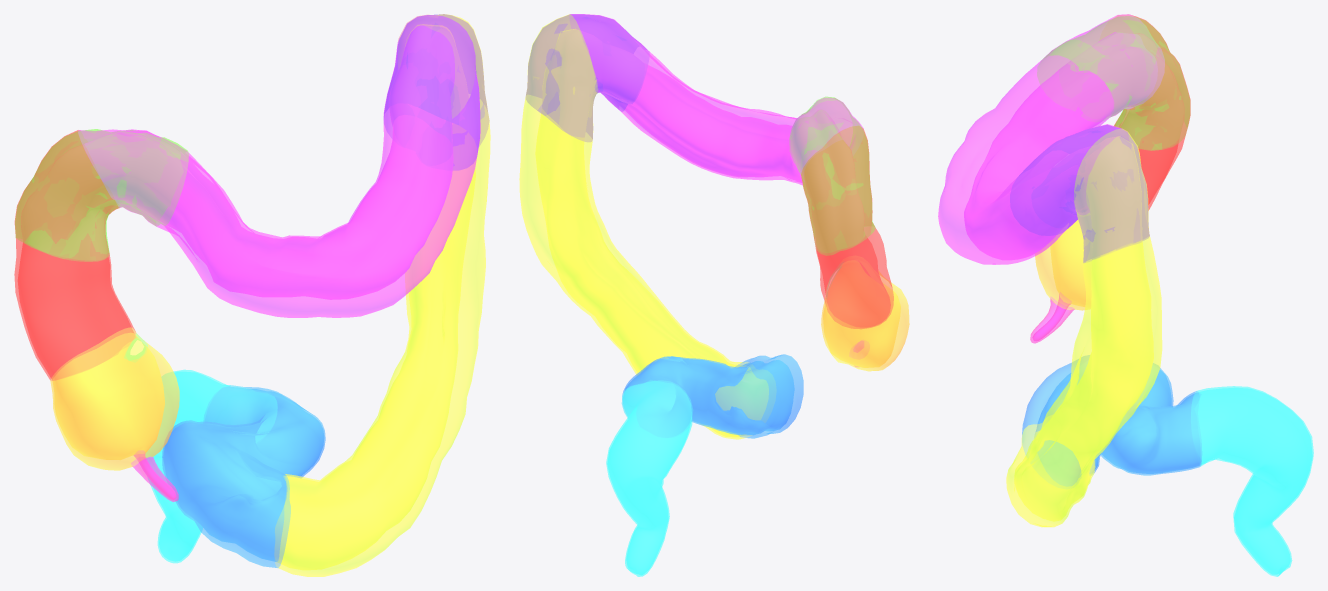
File: kolon-female.glb
3 renders of one model, left to right at view 1: azimuth 30°, elevation 25°; view 2: azimuth 150°, elevation 25°; view 3: azimuth 270°, elevation 25°, orthographic. The views are drawn at different scales.
Parts seen in each view (by area): view 1: 0:8:VH_F_transverse_colon, 0:2:VH_F_descending_colon, 0:0:VH_F_ascending_colon, 0:6:VH_F_sigmoid_colon, 0:3:VH_F_hepatic_flexure_of_colon, 0:1:VH_F_caecum, 0:7:VH_F_splenic_flexure_of_colon, 0:5:VH_F_rectum, 0:9:VH_F_vermiform_appendix; view 2: 0:2:VH_F_descending_colon, 0:8:VH_F_transverse_colon, 0:0:VH_F_ascending_colon, 0:6:VH_F_sigmoid_colon, 0:7:VH_F_splenic_flexure_of_colon, 0:5:VH_F_rectum, 0:3:VH_F_hepatic_flexure_of_colon, 0:1:VH_F_caecum; view 3: 0:8:VH_F_transverse_colon, 0:2:VH_F_descending_colon, 0:5:VH_F_rectum, 0:7:VH_F_splenic_flexure_of_colon, 0:3:VH_F_hepatic_flexure_of_colon, 0:6:VH_F_sigmoid_colon, 0:0:VH_F_ascending_colon, 0:1:VH_F_caecum, 0:9:VH_F_vermiform_appendix.
Boxes of the visible parts, x1,y1,x2,y2 form: 0:8:VH_F_transverse_colon: (78,15,480,317); 0:2:VH_F_descending_colon: (274,14,490,576); 0:0:VH_F_ascending_colon: (14,130,135,380); 0:6:VH_F_sigmoid_colon: (162,385,325,567); 0:3:VH_F_hepatic_flexure_of_colon: (15,129,188,261); 0:1:VH_F_caecum: (50,327,179,470); 0:7:VH_F_splenic_flexure_of_colon: (384,14,489,170); 0:5:VH_F_rectum: (145,369,277,563); 0:9:VH_F_vermiform_appendix: (131,450,178,501); 0:2:VH_F_descending_colon: (519,14,768,439); 0:8:VH_F_transverse_colon: (570,14,863,185); 0:0:VH_F_ascending_colon: (801,126,893,328); 0:6:VH_F_sigmoid_colon: (622,354,803,438); 0:7:VH_F_splenic_flexure_of_colon: (526,14,649,141); 0:5:VH_F_rectum: (606,380,692,576); 0:3:VH_F_hepatic_flexure_of_colon: (789,96,875,255); 0:1:VH_F_caecum: (821,260,909,371); 0:8:VH_F_transverse_colon: (938,14,1164,264); 0:2:VH_F_descending_colon: (1006,129,1162,527); 0:5:VH_F_rectum: (1191,386,1313,576); 0:7:VH_F_splenic_flexure_of_colon: (1010,125,1149,262); 0:3:VH_F_hepatic_flexure_of_colon: (1037,16,1189,150); 0:6:VH_F_sigmoid_colon: (1022,355,1201,486); 0:0:VH_F_ascending_colon: (1114,14,1190,210); 0:1:VH_F_caecum: (1035,220,1091,310); 0:9:VH_F_vermiform_appendix: (1030,294,1074,343).
Size of the model in its own units: 0.2433 by 0.2949 by 0.1934.
